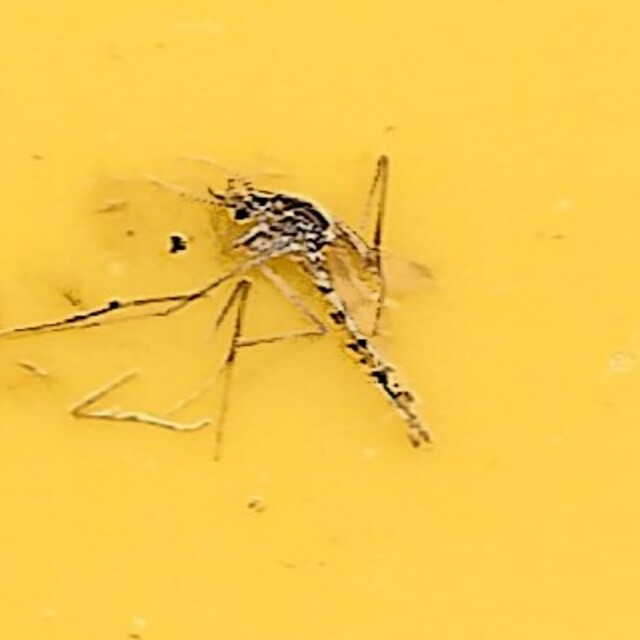Nematocera: (200, 169, 440, 471)
